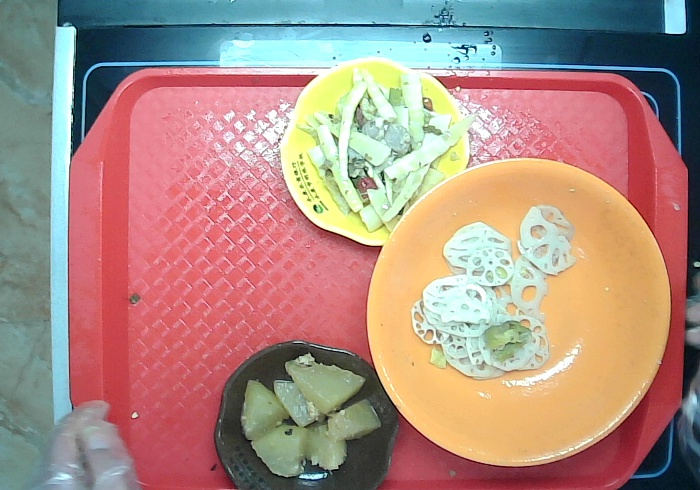YKMZ-Huang_Se_Ao_Bian_Wan: (270, 54, 480, 250)
YKMZ-Ju_Se_Tang_Wan: (363, 151, 679, 472)
YKMZ-Ka_Fei_Ao_Bian_Wan: (210, 330, 404, 490)
